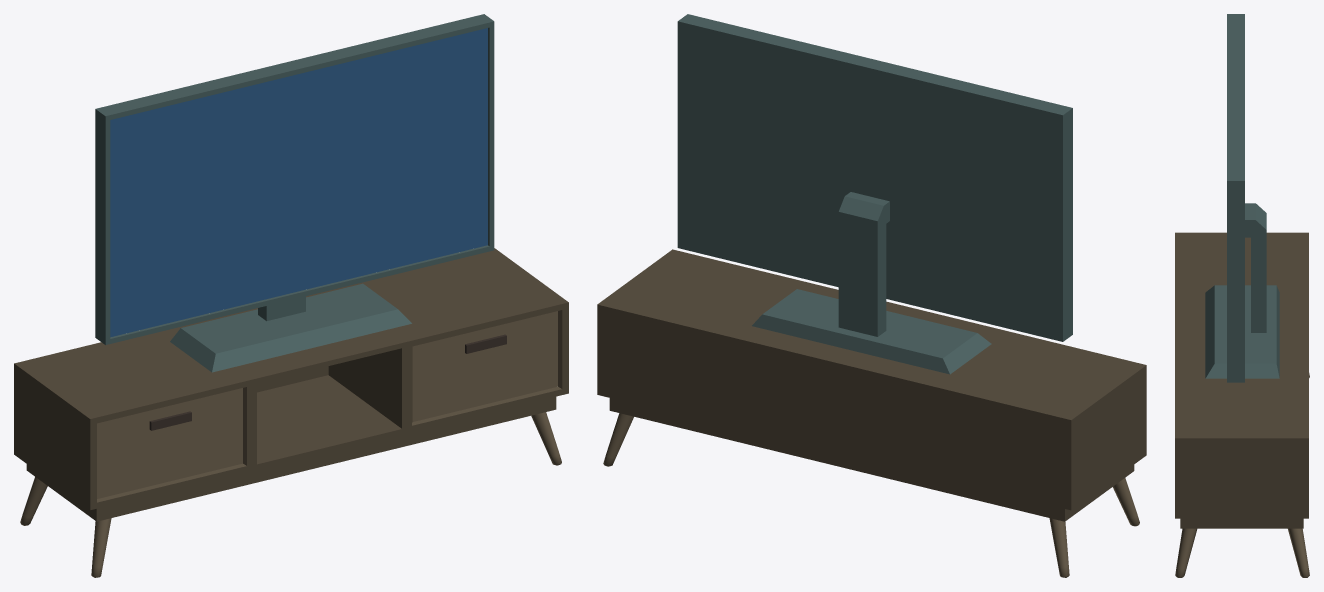
3 renders of one model, left to right at view 1: azimuth 30°, elevation 25°; view 2: azimuth 150°, elevation 25°; view 3: azimuth 270°, elevation 25°, orthographic. The views are drawn at different scales.
Visible parts, largest first — view 1: tv; view 2: tv; view 3: tv.
Part boxes in pixels (x1,y1,x2,y2): tv: (14,14,568,577); tv: (597,14,1146,577); tv: (1175,14,1309,577).
Size of the model in its own units: 1.6 by 1.38 by 0.4435.
